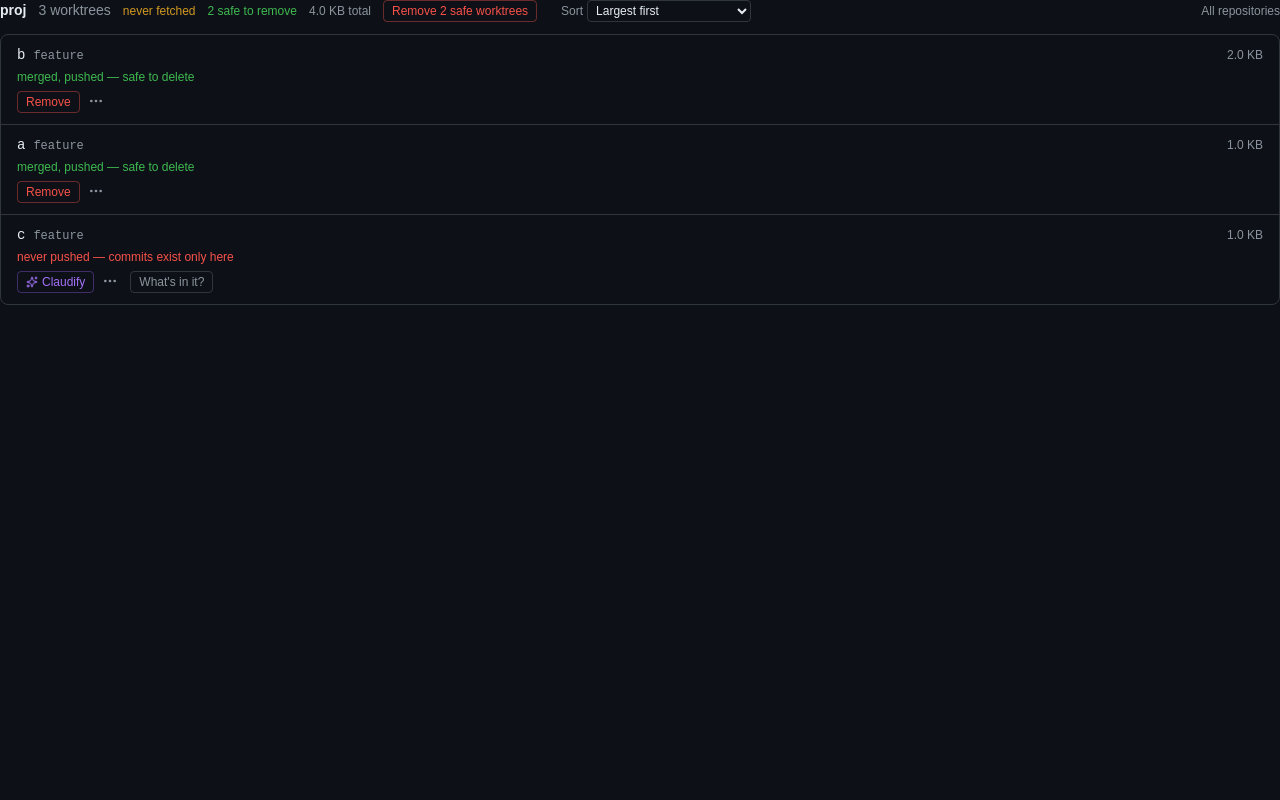
Test: WorktreesPage › bulk removal › closes the dialog after a successful removal
Click the button "Remove 2 safe worktrees": (460, 11) [383,0,537,22]
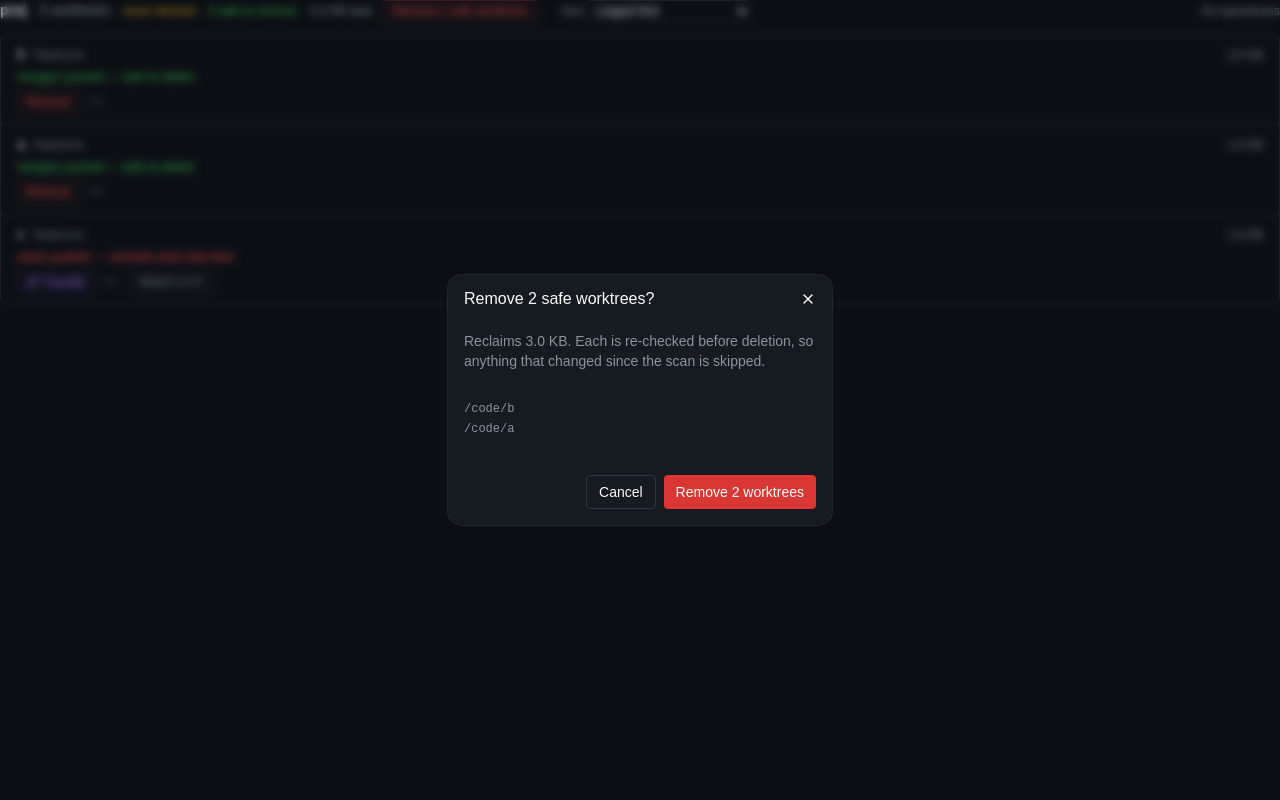
Click the button "Remove 2 worktrees": (740, 492) [664,475,816,509]
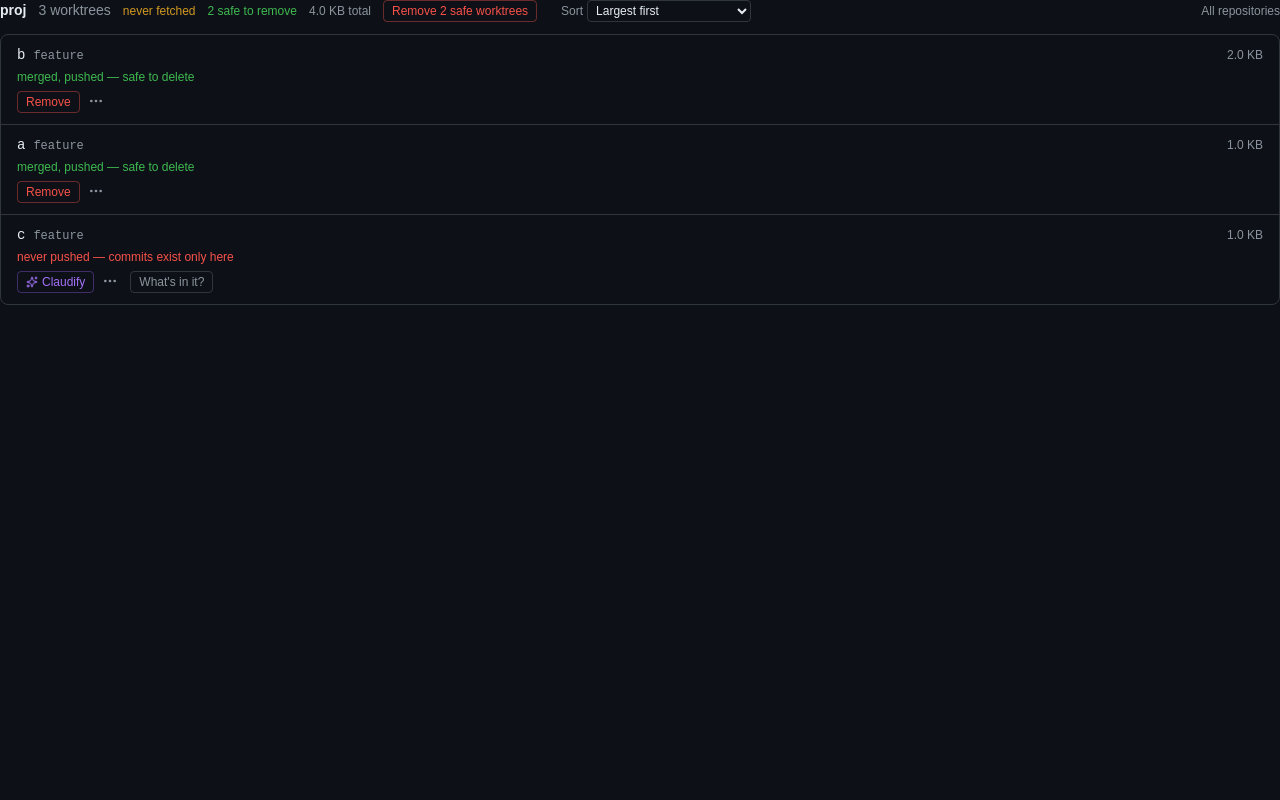
Expected: the dialog is gone
